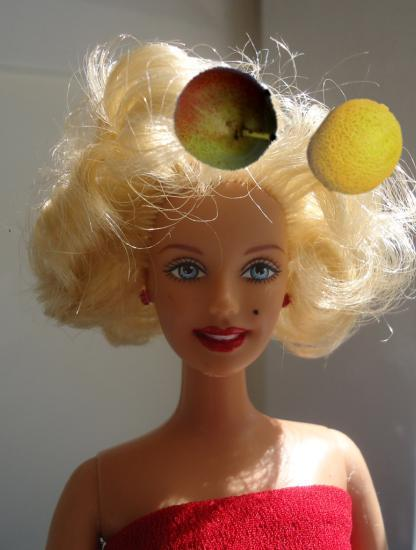Cantaloupe: (308, 98, 410, 200)
Pear: (171, 63, 281, 173)
